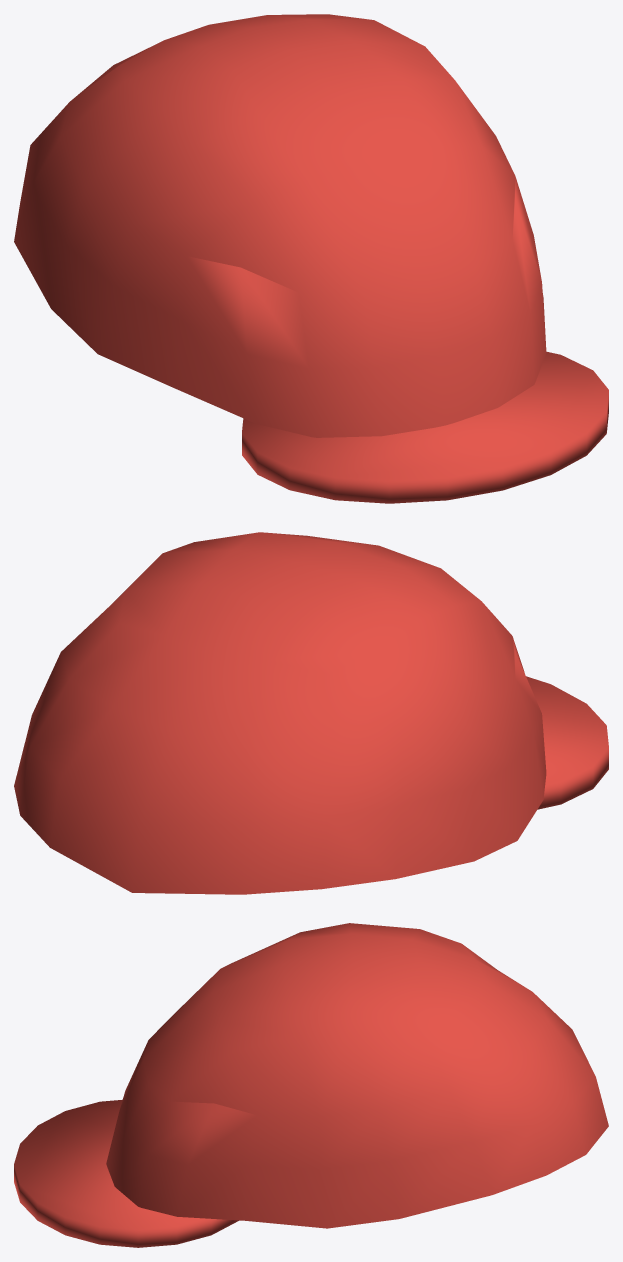
File: hair-cap.glb
3 views of the same model, one above another, from view 1: azimuth 30°, elevation 25°; view 2: azimuth 150°, elevation 25°; view 3: azimuth 270°, elevation 25° (orthographic). The views are drawn at different scales.
Parts seen in each view (by area): view 1: cap; view 2: cap; view 3: cap.
Boxes of the visible parts, <box> form: cap: <box>14,14,608,503</box>; cap: <box>14,532,608,894</box>; cap: <box>14,923,608,1247</box>.
Size of the model in its own units: 0.1968 by 0.1266 by 0.2988.
